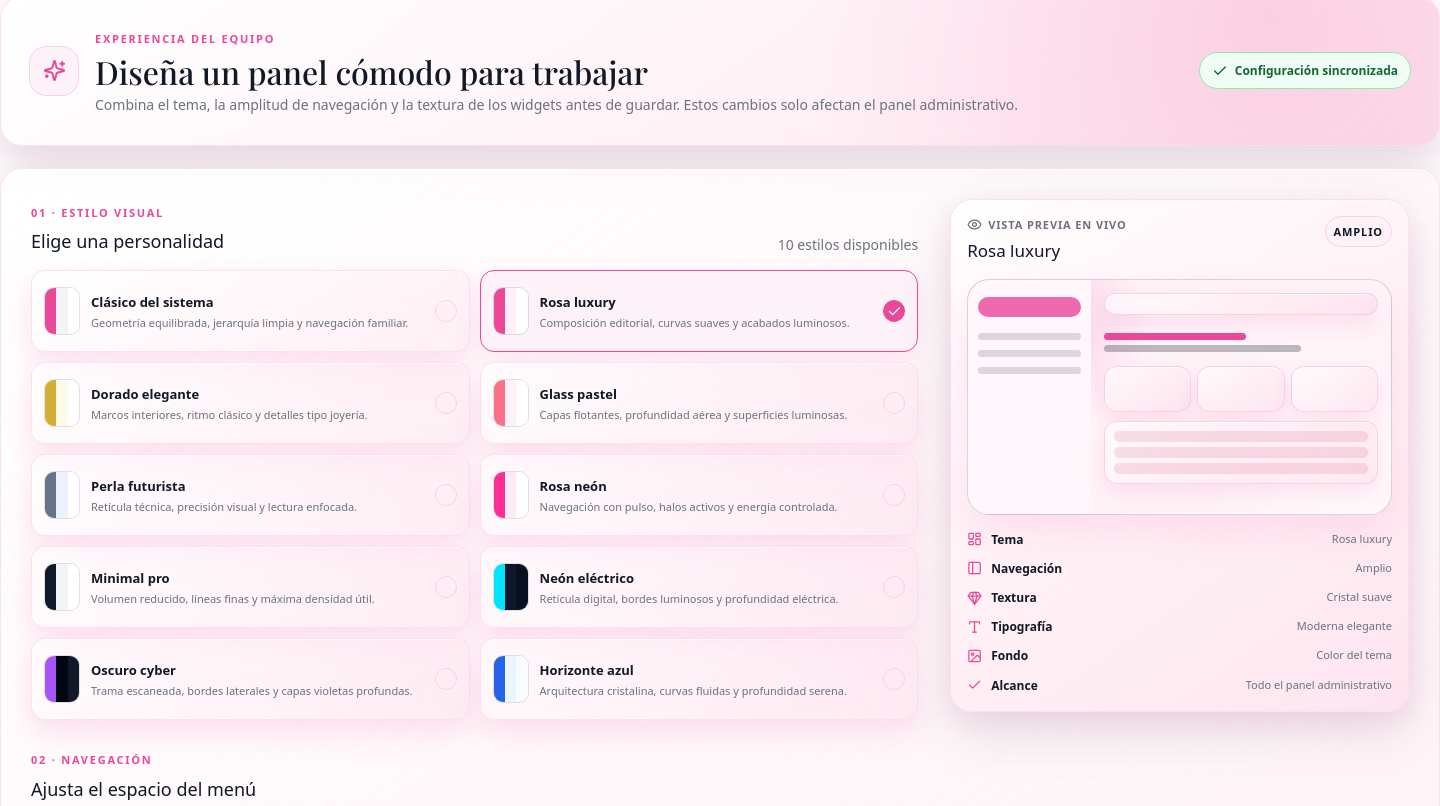
it: PanelAdminSection Nivel Plus › revierte la interfaz al último estado persistido cuando falla el guardado
Expected: the text "Configuración sincronizada" is shown, [1199,52,1411,90]
Click the button "Oscuro cyber": (62, 679) [31,638,470,720]
(page scrolled)
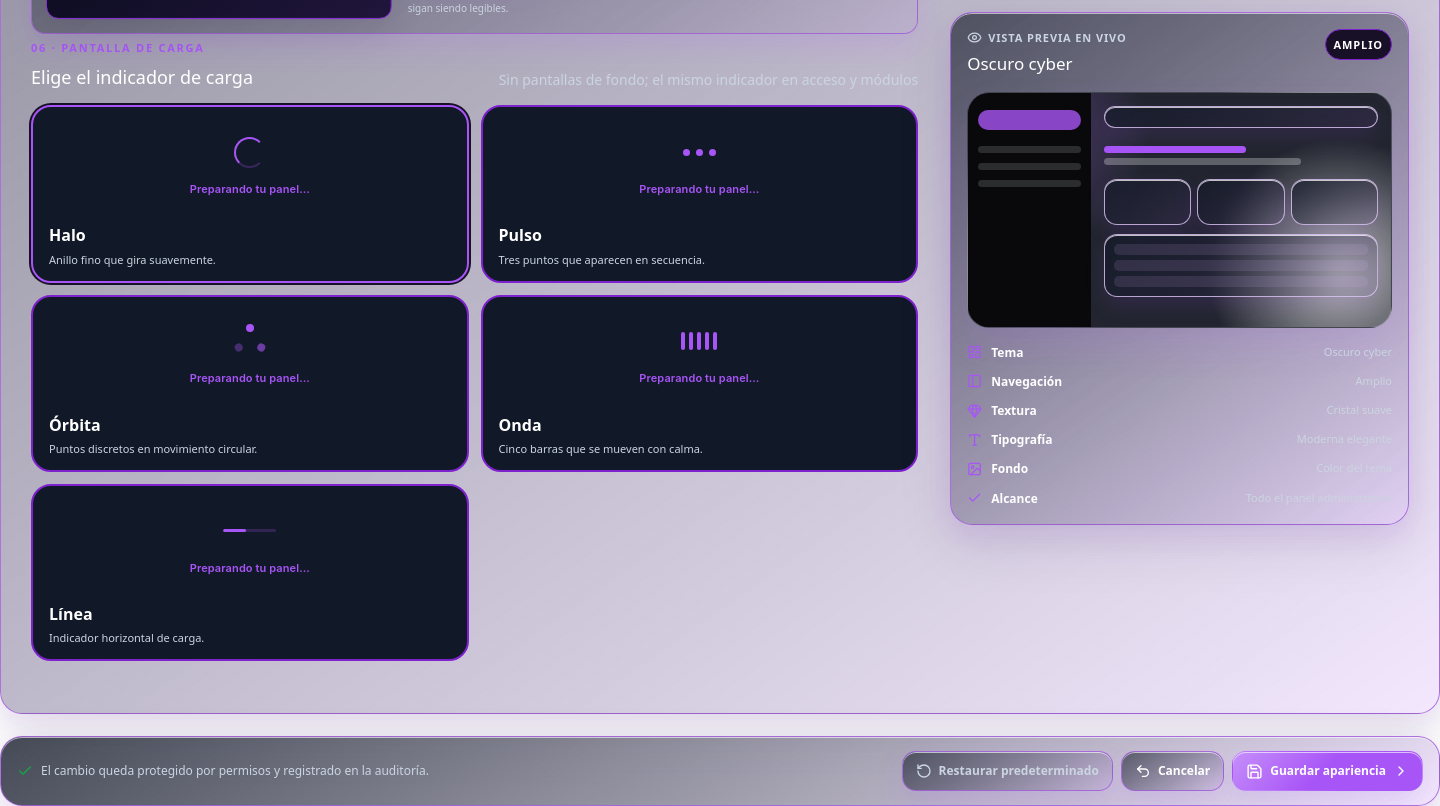
Click the button "Guardar apariencia": (1328, 771) [1232,751,1423,791]
(page scrolled)
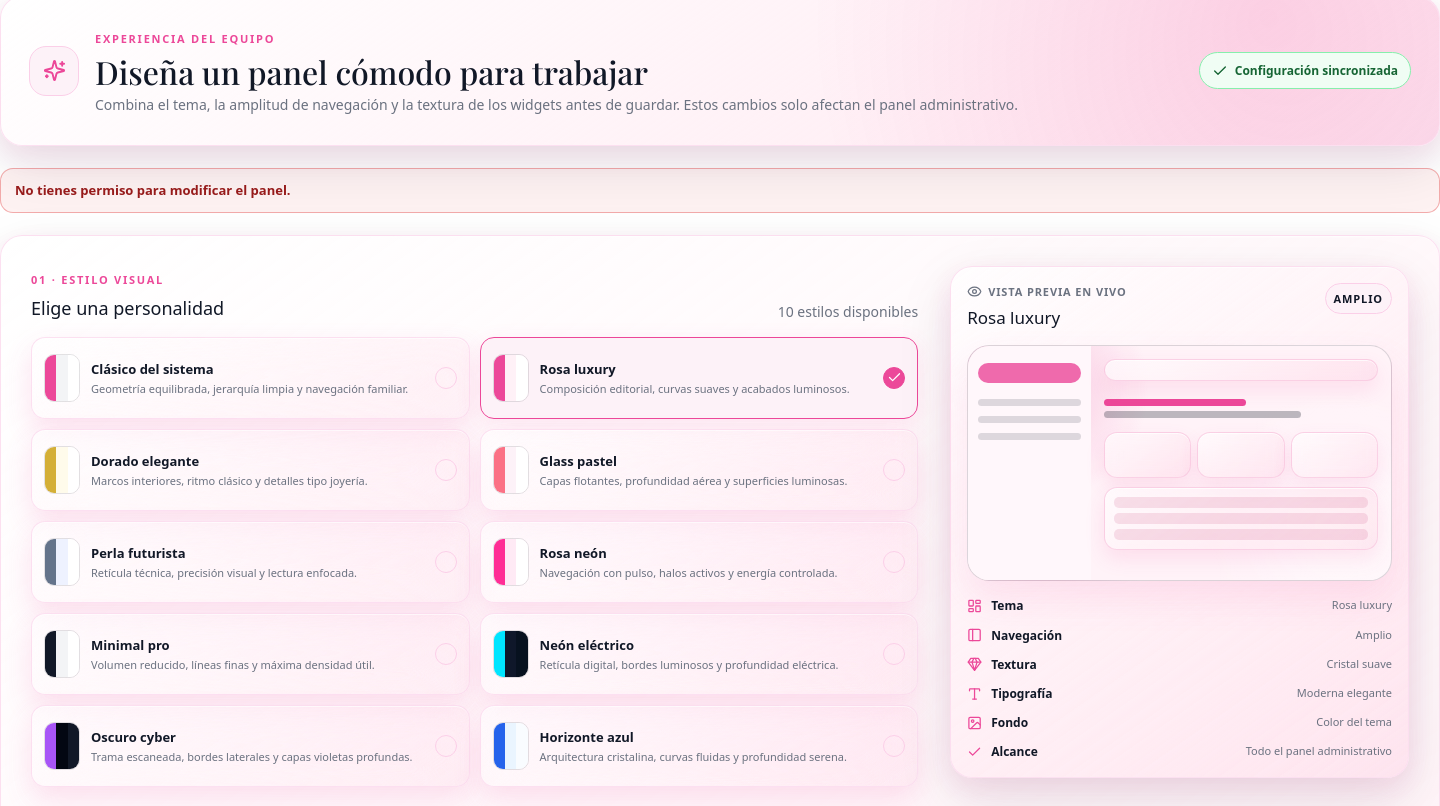
Expected: the text "No tienes permiso para modificar el panel." is shown, [0,168,1439,213]
Expected: the text "Configuración sincronizada" is shown, [1199,52,1411,90]
